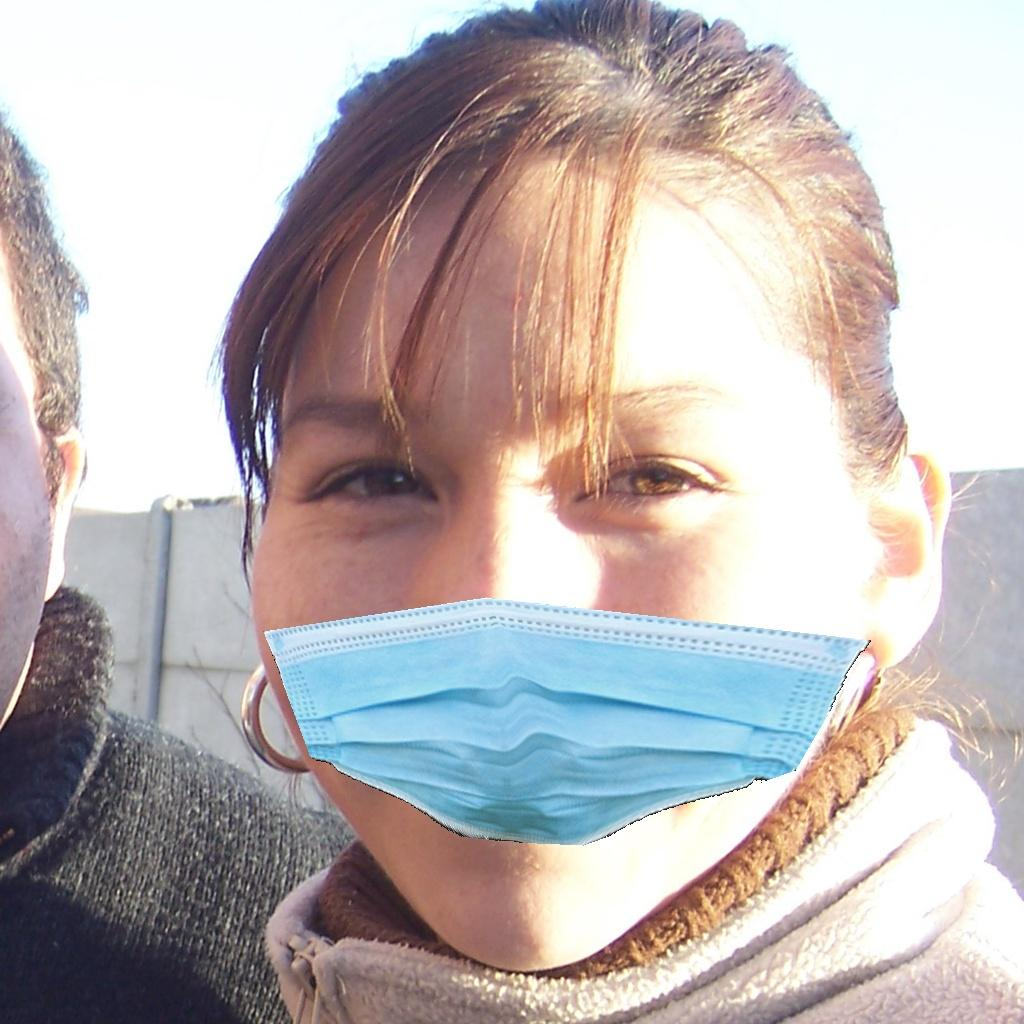Com Máscara: (293, 225, 832, 883)
